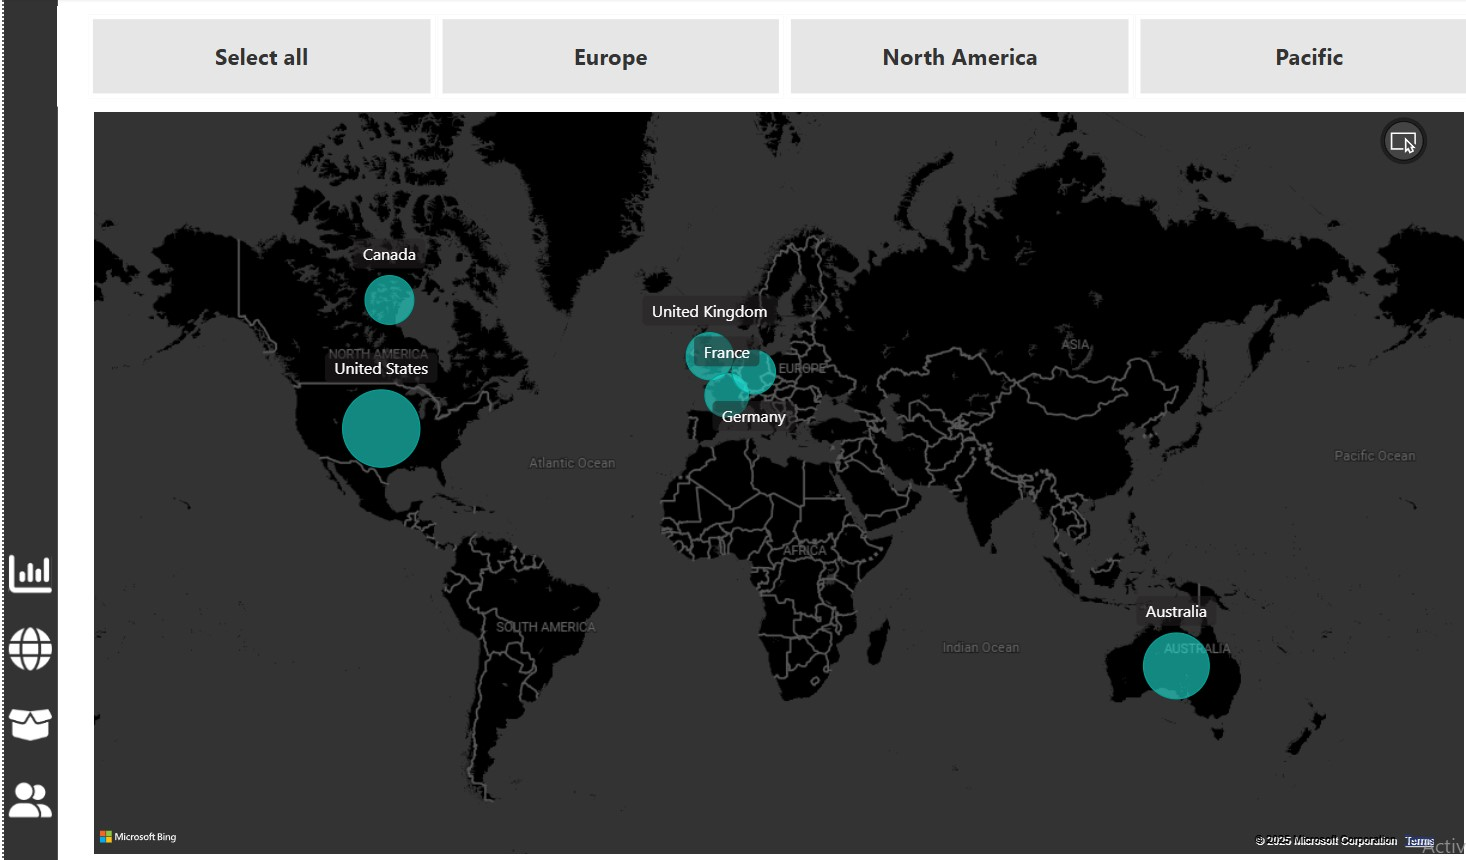

This screenshot's page, from the dashboard's own definition file:
{"tool":"powerbi","page":{"name":"Map","canvas":[1280,720],"ordinal":1},"visuals":[{"type":"shape","title":"Left Nav Background","box":[0,0,45,720.3],"z":0},{"type":"map","fields":{"Category":["Territory Lookup.Country"],"Size":["Measure Table.Total Orders"]},"box":[70.3,90.5,1154.1,629.7],"z":1000},{"type":"slicer","fields":{"Values":["Territory Lookup.Continent"]},"box":[44.6,6.8,1214.9,83.8],"z":2000},{"type":"actionButton","box":[0,451.4,44.4,59.7],"z":3000,"group":"g1"},{"type":"actionButton","box":[0,640.3,44.4,59.7],"z":4000,"group":"g1"},{"type":"actionButton","box":[0,577.3,44.4,59.7],"z":5000,"group":"g1"},{"type":"actionButton","box":[0,514.4,44.4,59.7],"z":6000,"group":"g1"},{"type":"group","id":"g1","title":"Navigation Buttons","box":[0,451.4,44.4,248.6],"z":6001}]}

Visuals, with their boxes in screenshot pixels (x1, y1, x2, y2):
"Left Nav Background" shape: region(0, 4, 53, 847)
map - Territory Lookup.Country x Measure Table.Total Orders: region(82, 110, 1434, 847)
slicer - Territory Lookup.Continent: region(52, 12, 1465, 110)
actionButton: region(0, 532, 52, 602)
actionButton: region(0, 754, 52, 824)
actionButton: region(0, 680, 52, 750)
actionButton: region(0, 606, 52, 676)
"Navigation Buttons" group: region(0, 532, 52, 824)
